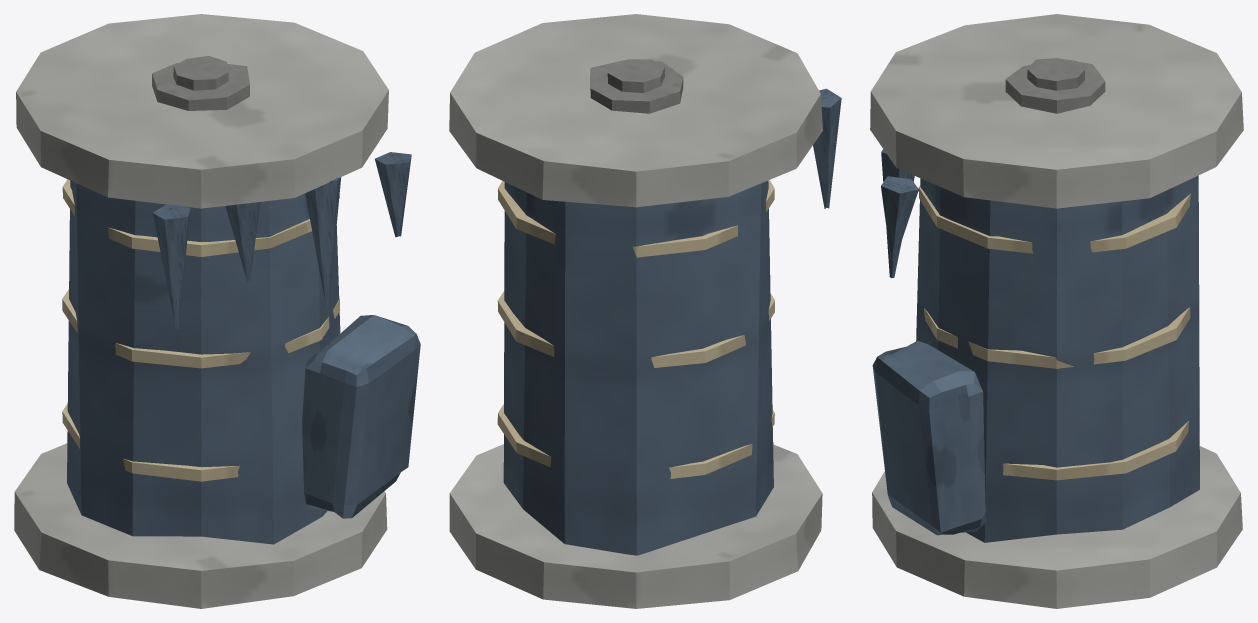
The model's file is frozen_bobbin.glb.
The picture shows the model from 3 angles, left to right: view 1: azimuth 30°, elevation 25°; view 2: azimuth 150°, elevation 25°; view 3: azimuth 270°, elevation 25°; orthographic projection.
Parts seen in each view (by area): view 1: FrozenBobbin; view 2: FrozenBobbin; view 3: FrozenBobbin.
Part boxes in pixels (box(x1,y1,x2,y2)): FrozenBobbin: box(14, 14, 420, 608); FrozenBobbin: box(449, 14, 841, 608); FrozenBobbin: box(870, 14, 1243, 608).
Size of the model in its own units: 0.2535 by 0.347 by 0.2537.
Materials: 4 (4 with a texture image).
